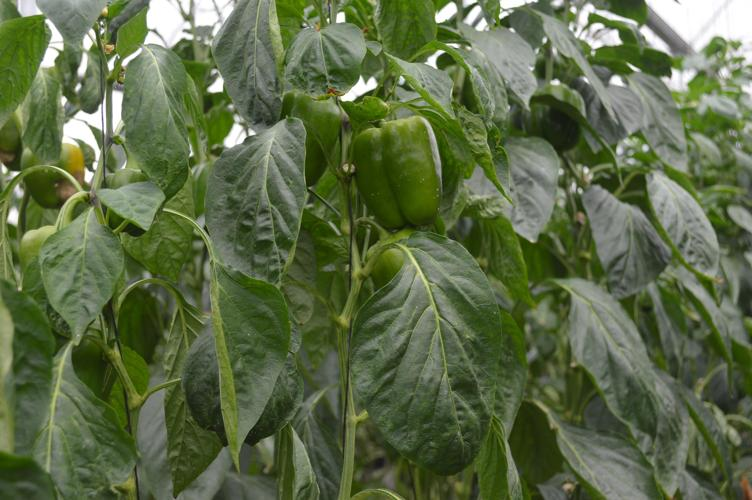BellPepper: (348, 116, 443, 223), (279, 84, 340, 179), (17, 143, 83, 204), (526, 85, 585, 148), (101, 169, 150, 229), (362, 228, 416, 277), (16, 225, 56, 263)
